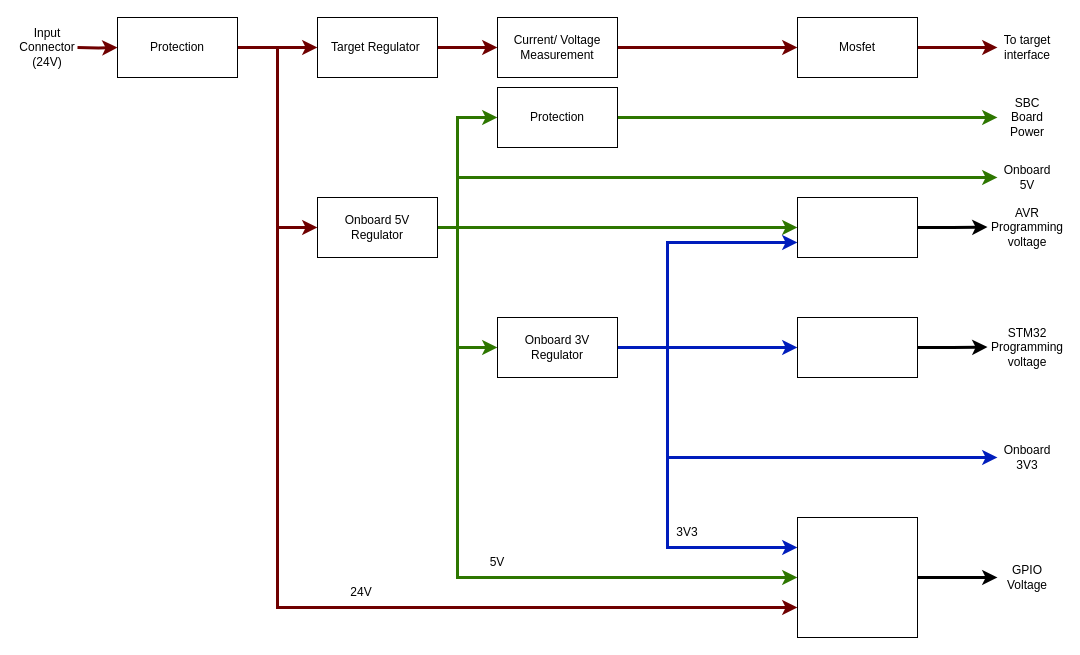
This 1080x655 diagram has some shape labels left out. Here are the shapes that lost their labels. From the top down, the centre of each, then its label:
At (857,227): "AVR Programmer".
At (857,347): "STM32 Programmer".
At (857,577): "GPIO Shifters".
